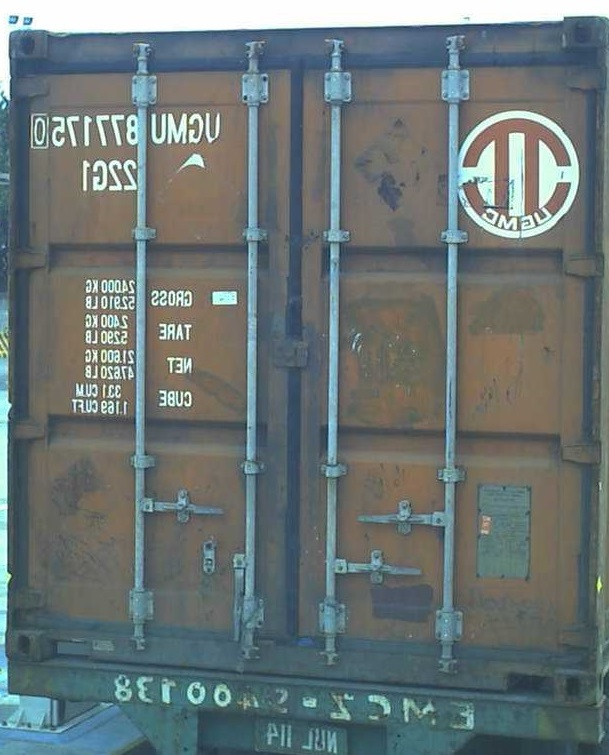container_door: (4, 22, 599, 702)
